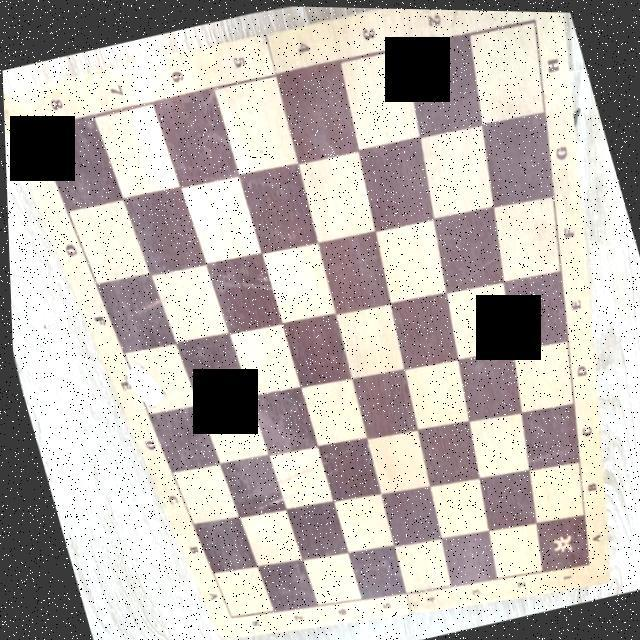chess-table-corners: (570, 546, 598, 578), (20, 116, 46, 142), (522, 10, 548, 34), (217, 604, 237, 626)
